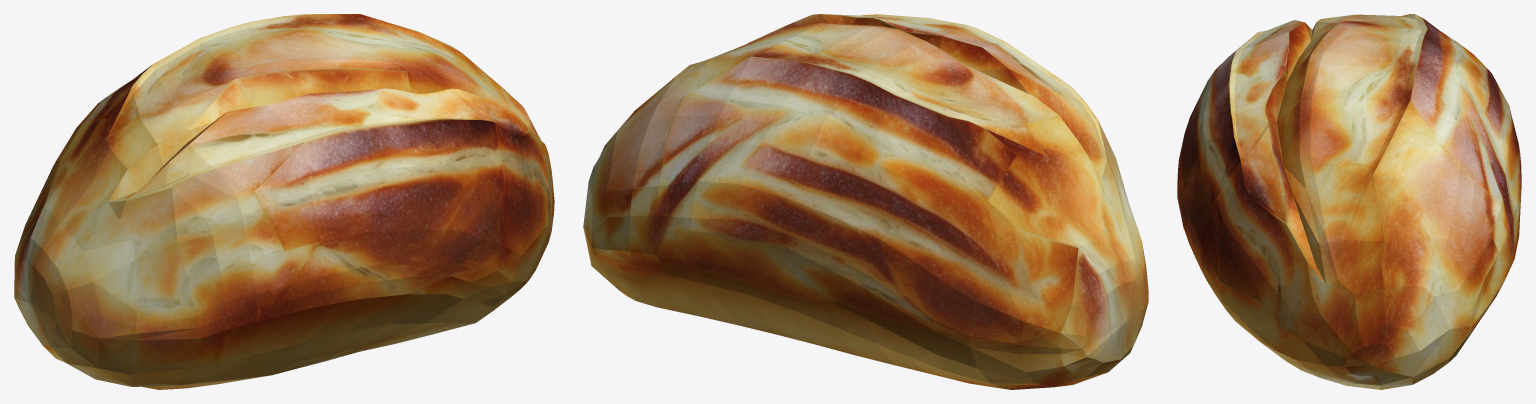
The picture shows the model from 3 angles, left to right: view 1: azimuth 30°, elevation 25°; view 2: azimuth 150°, elevation 25°; view 3: azimuth 270°, elevation 25°; orthographic projection. The views are drawn at different scales.
Visible parts, largest first — view 1: mesh.027; view 2: mesh.027; view 3: mesh.027.
Boxes of the visible parts, left/top/right/bottom form: mesh.027: left=14, top=14, right=554, bottom=389; mesh.027: left=583, top=14, right=1148, bottom=389; mesh.027: left=1177, top=14, right=1521, bottom=389.
Bounding box in the file's own units: 1.14 × 0.605 × 0.7382.
1 material, 1 textured.
